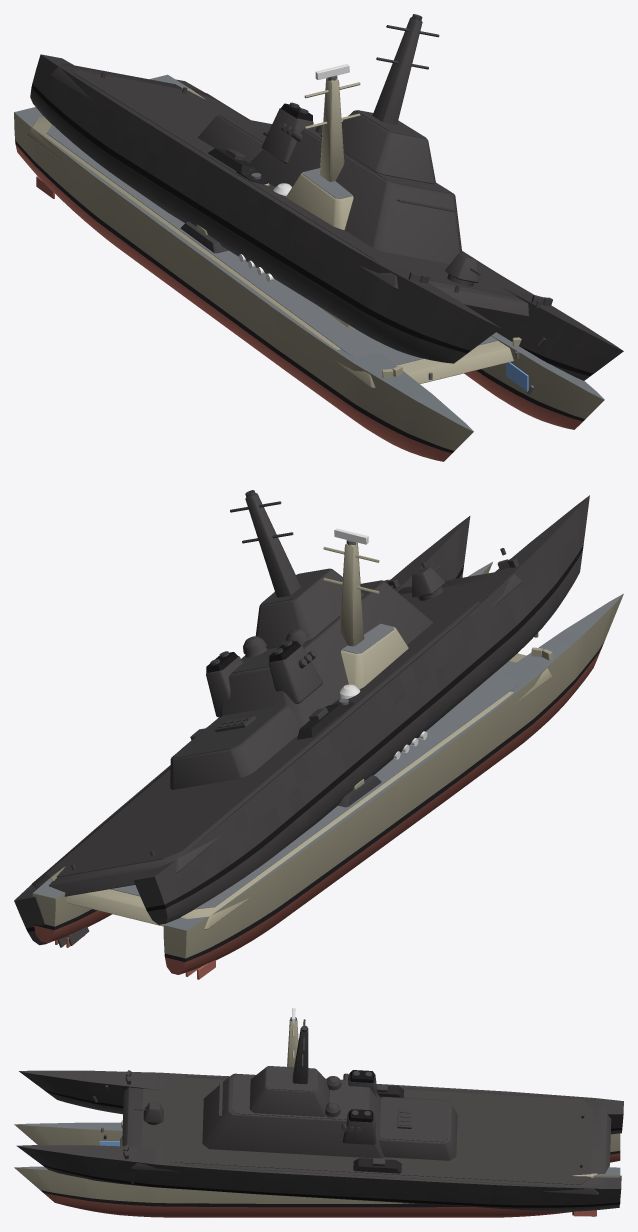
File: corvette__shahid_soleimani_class.glb
The picture shows the model from 3 angles, top to bottom: view 1: azimuth 30°, elevation 25°; view 2: azimuth 150°, elevation 25°; view 3: azimuth 270°, elevation 25°; orthographic projection. The views are drawn at different scales.
Visible parts, largest first — view 1: Wreck, Hull_Mesh; view 2: Wreck, Hull_Mesh; view 3: Wreck, Hull_Mesh.
Part boxes in pixels (x1=…): Wreck: x1=30, y1=14, x2=623, y2=380; Hull_Mesh: x1=14, y1=74, x2=604, y2=461; Wreck: x1=14, y1=490, x2=589, y2=947; Hull_Mesh: x1=32, y1=542, x2=623, y2=979; Wreck: x1=16, y1=1019, x2=623, y2=1216; Hull_Mesh: x1=14, y1=1020, x2=620, y2=1217.
Size of what is drawn, in the model's own units: 17.17 by 24.46 by 68.13.
